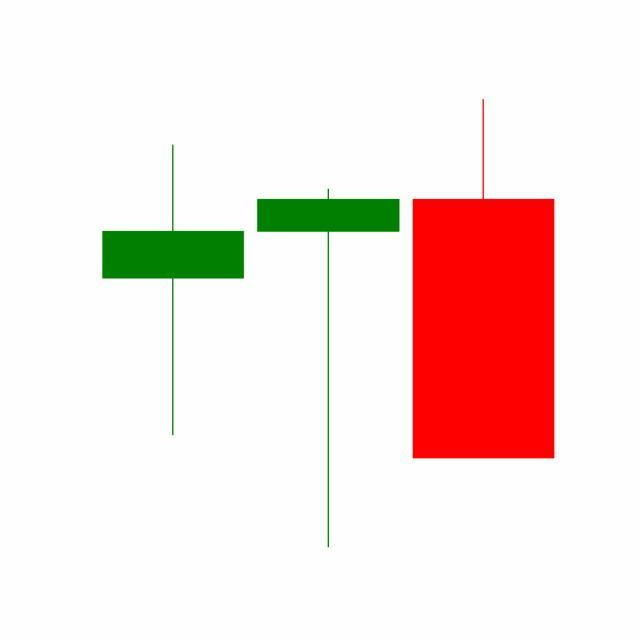Dragonfly Doji: (250, 185, 407, 553)
